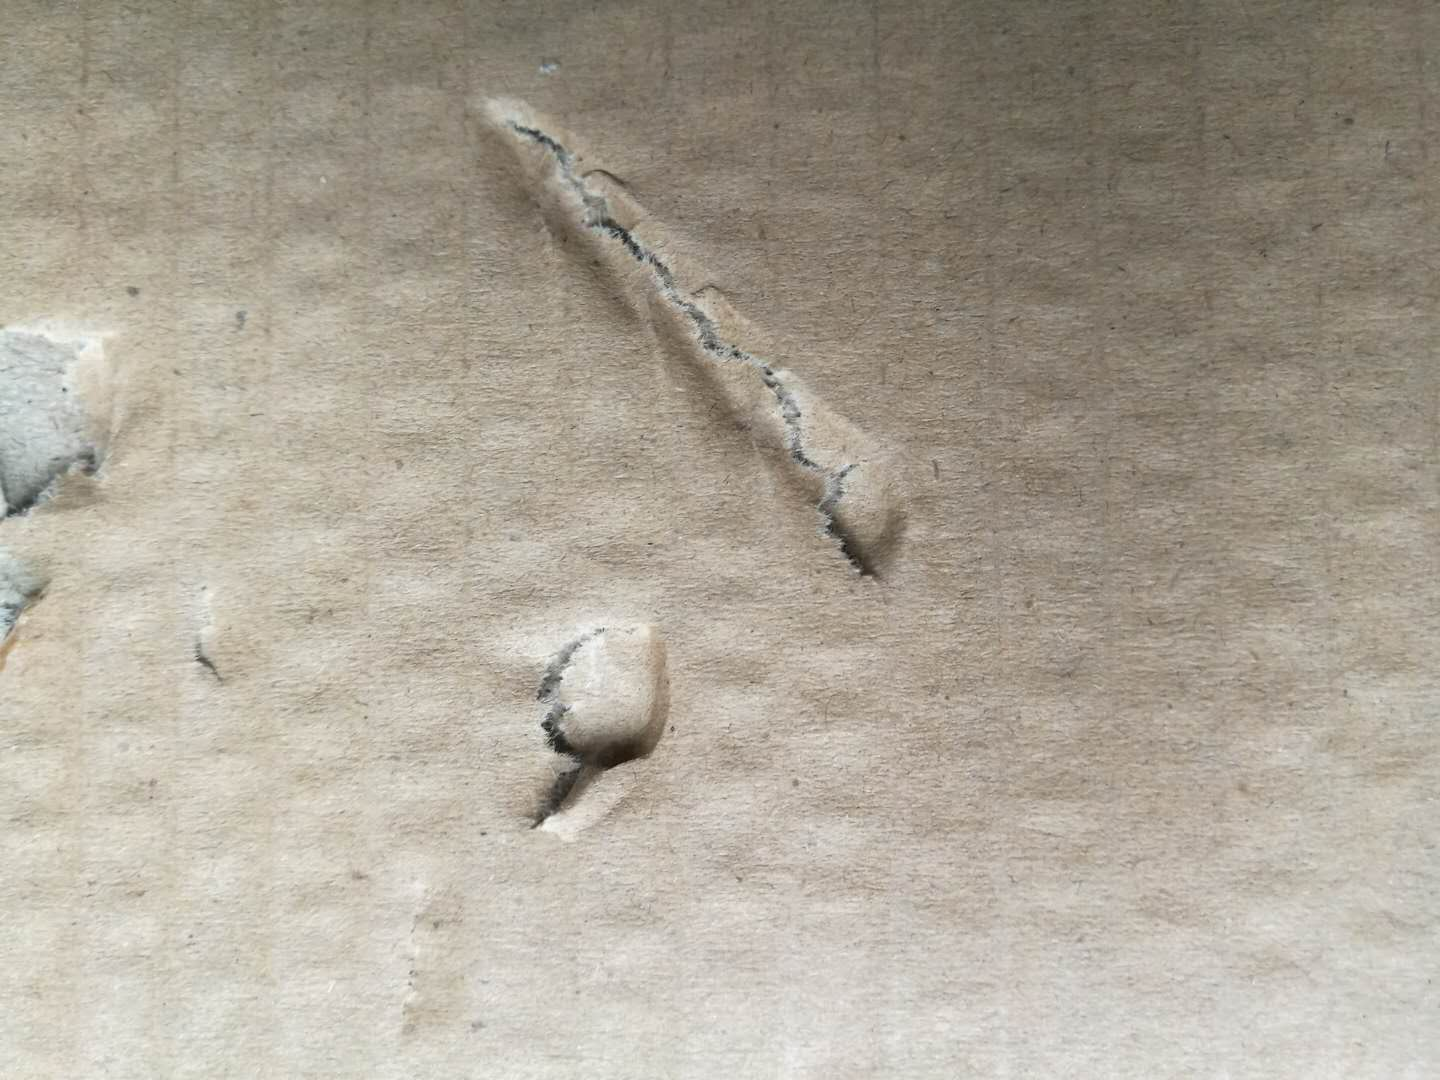defect: (440, 52, 971, 601), (2, 286, 154, 692), (509, 602, 701, 871), (366, 854, 501, 1054), (177, 580, 266, 717)
